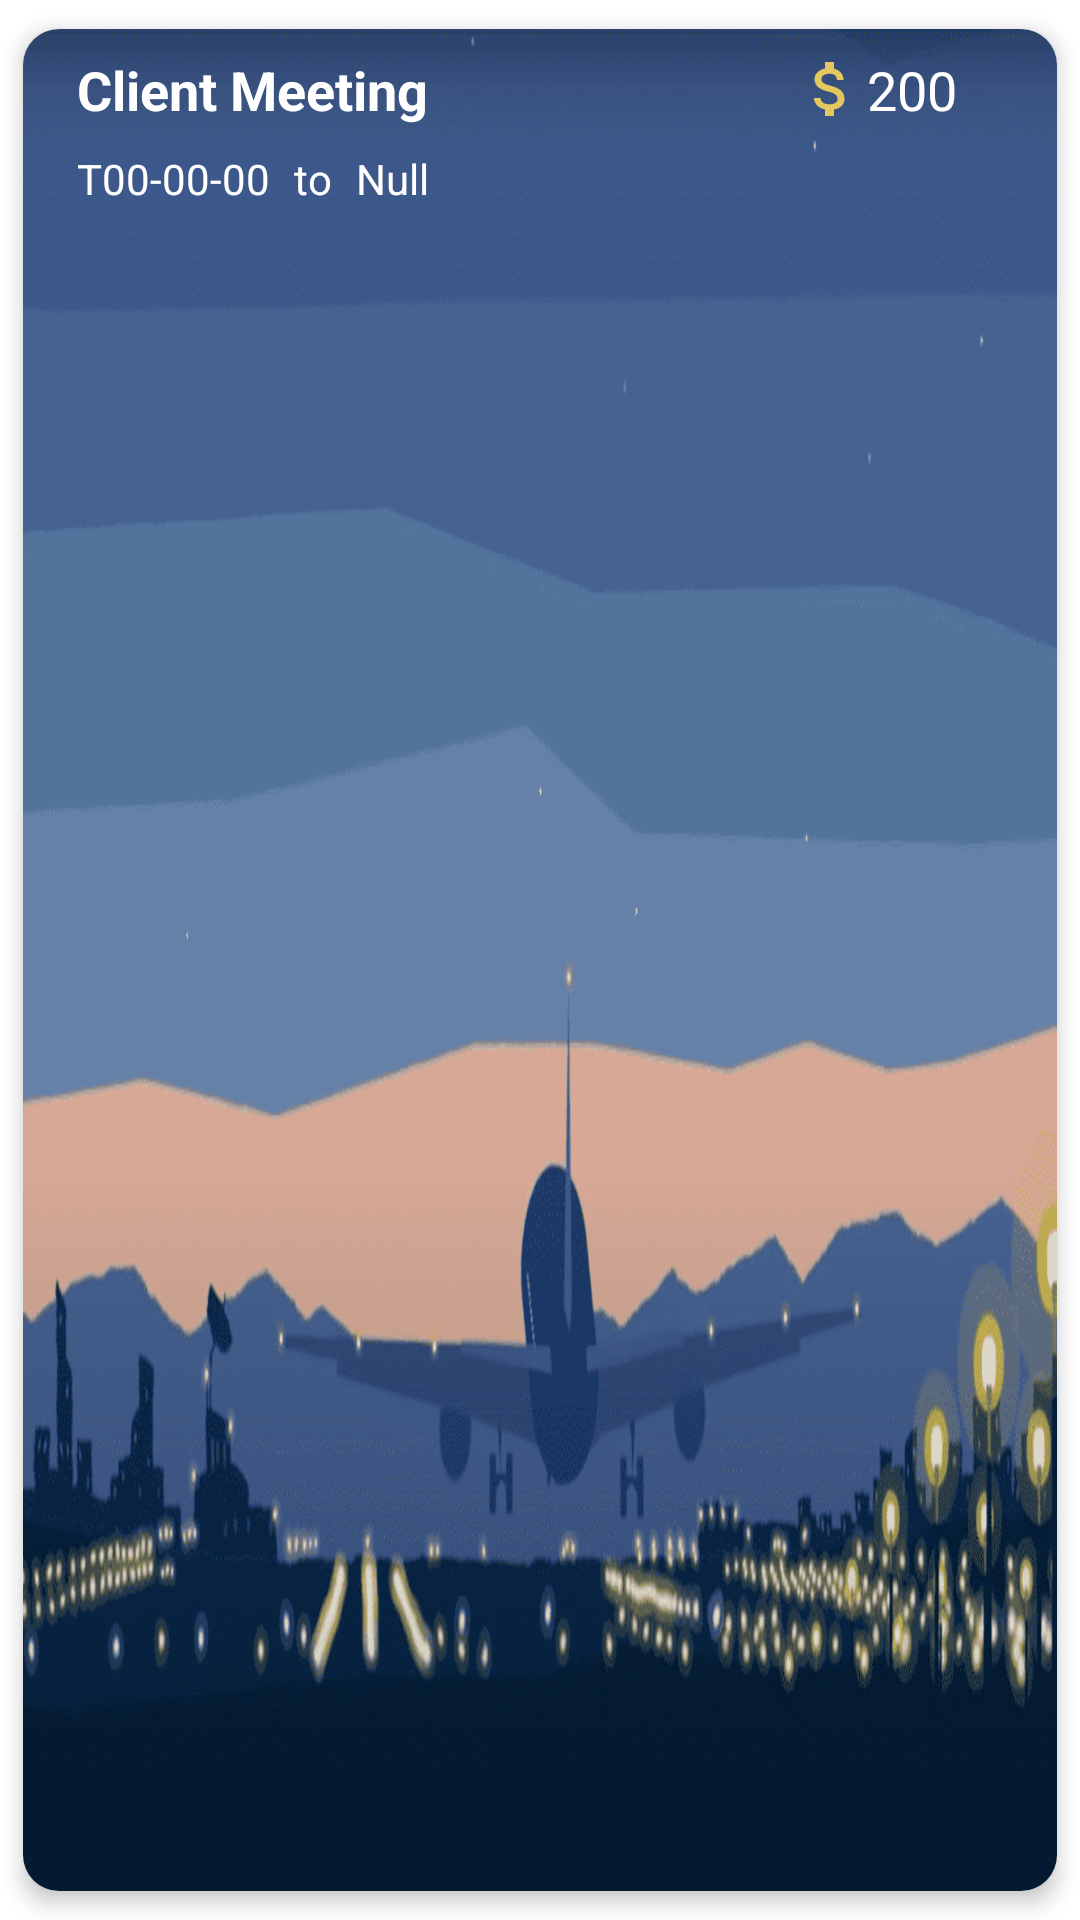

Where icons sit on this 1080 × 1920 app screen, as (x1, y1, x2, y2):
attach money: (814, 62, 845, 116)
